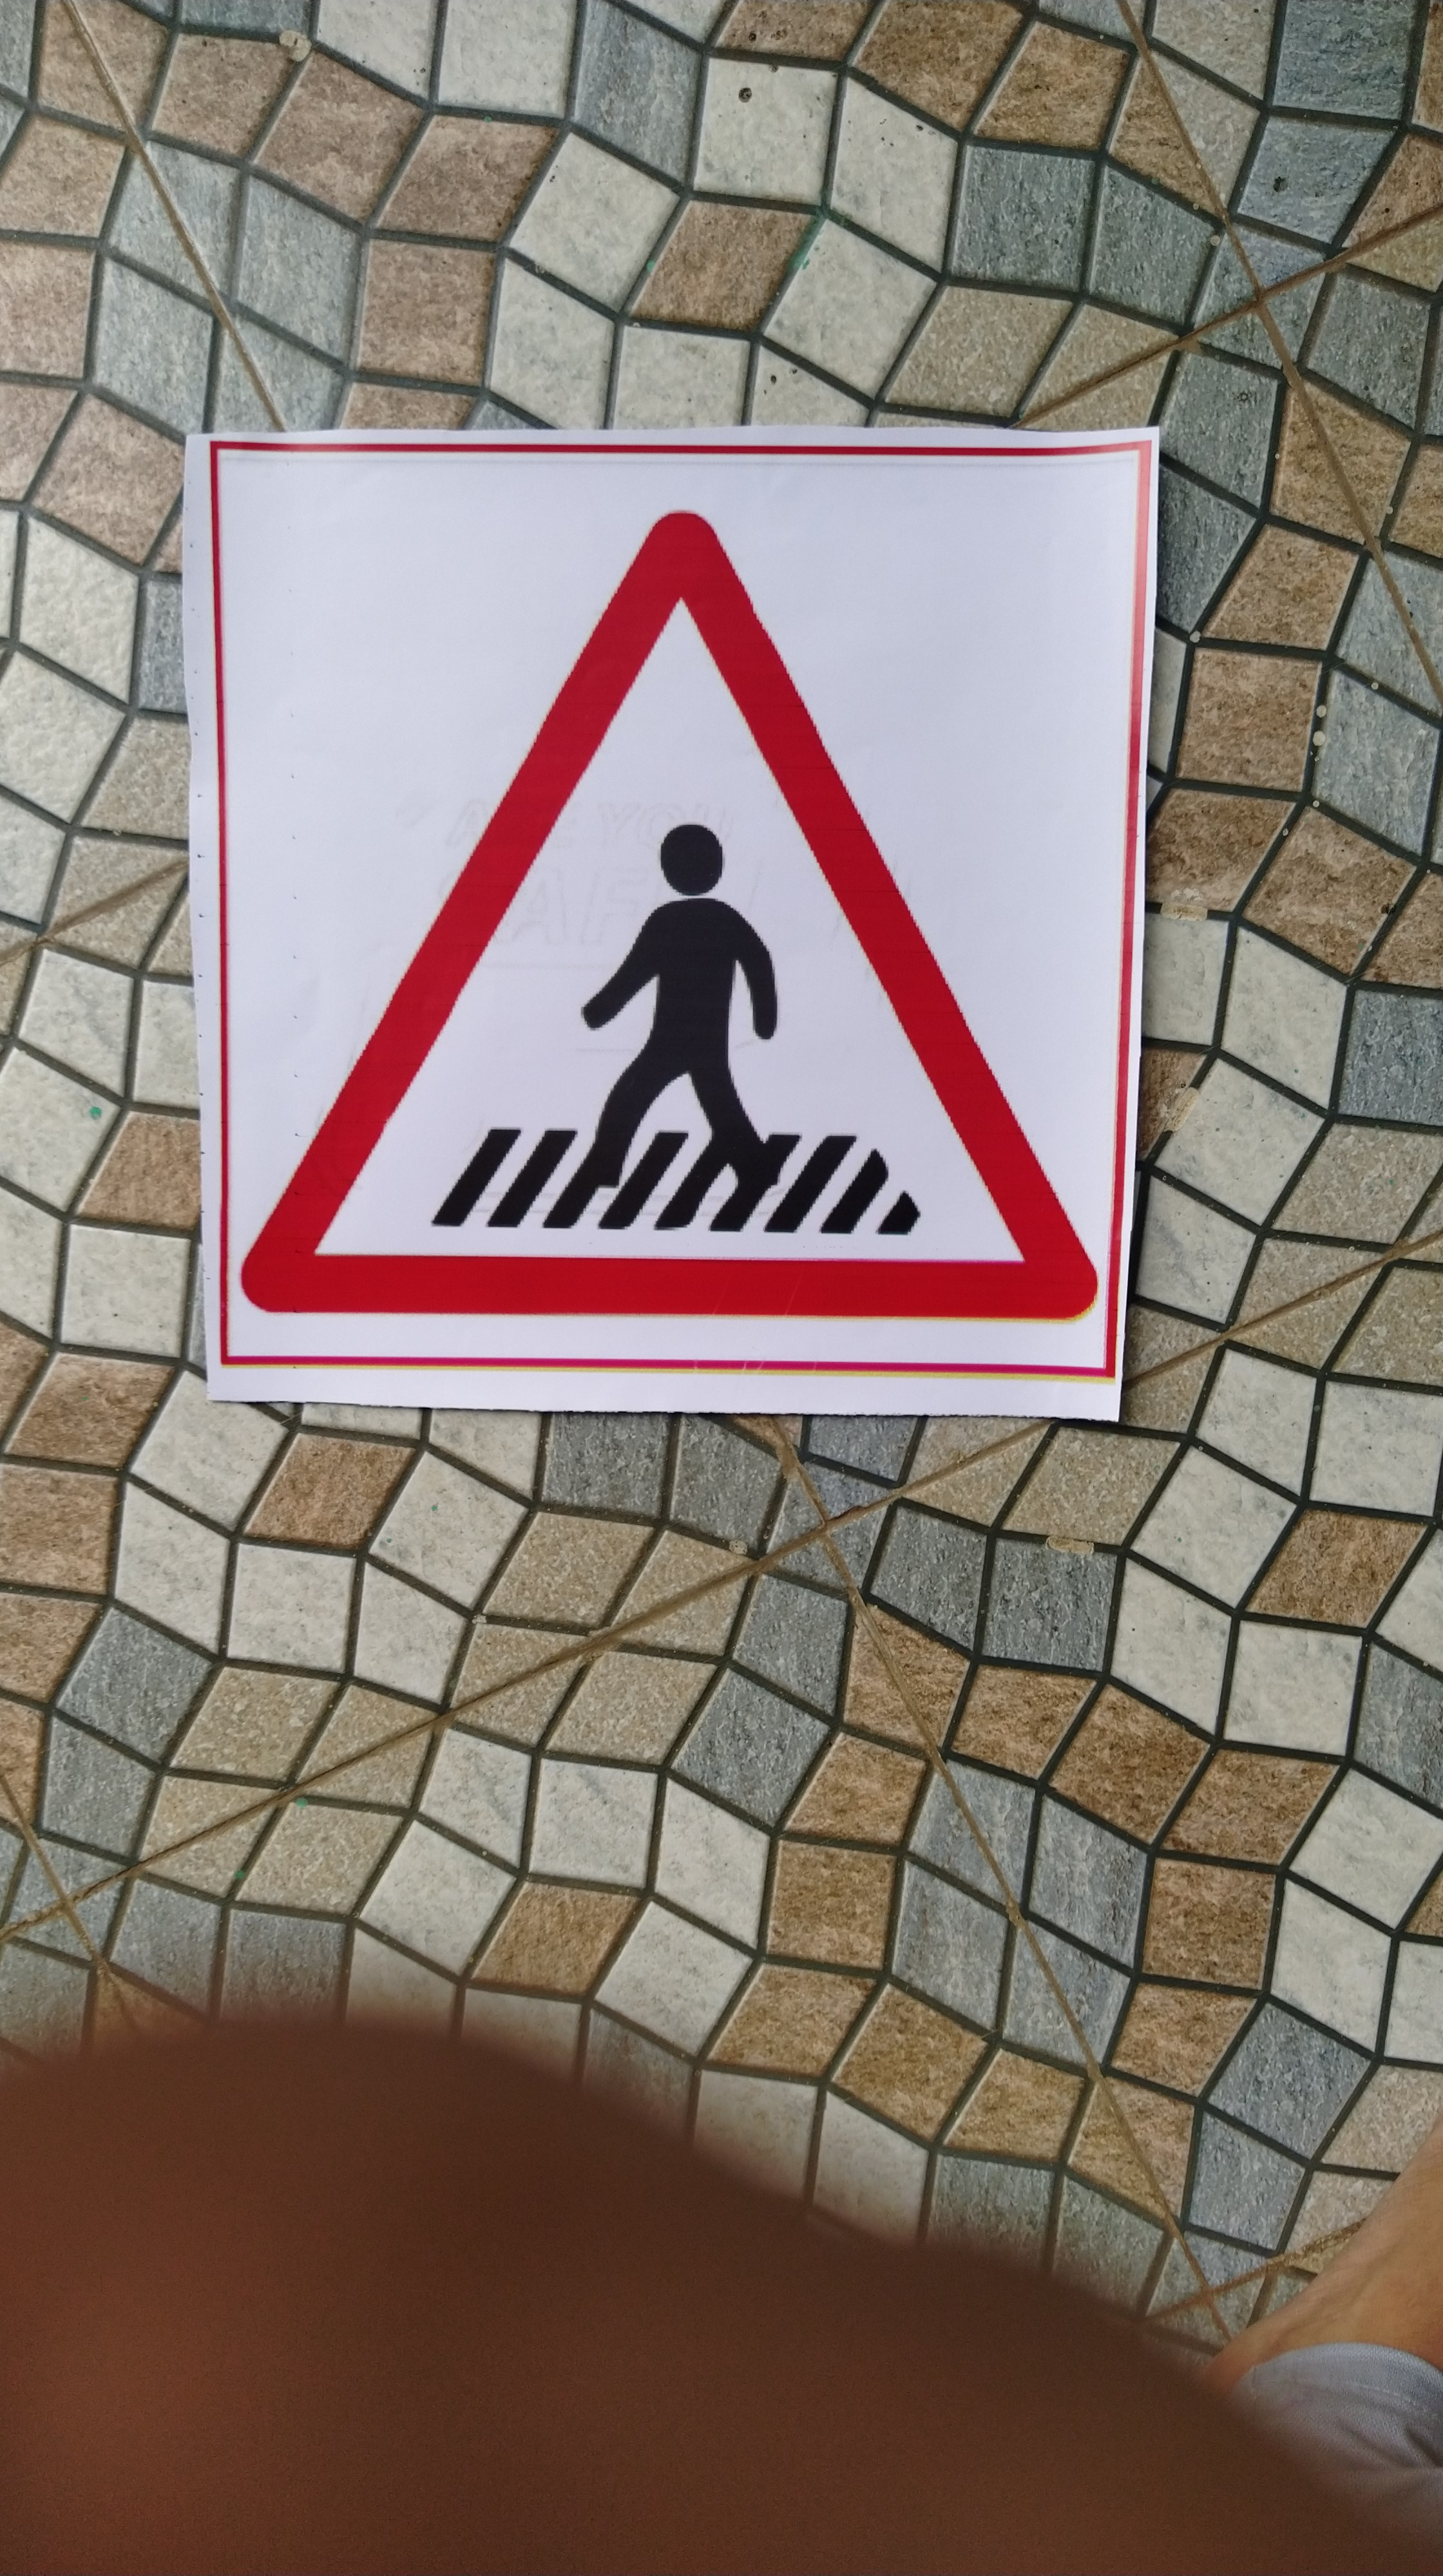pedestrain crossing: (234, 464, 1105, 1437)
